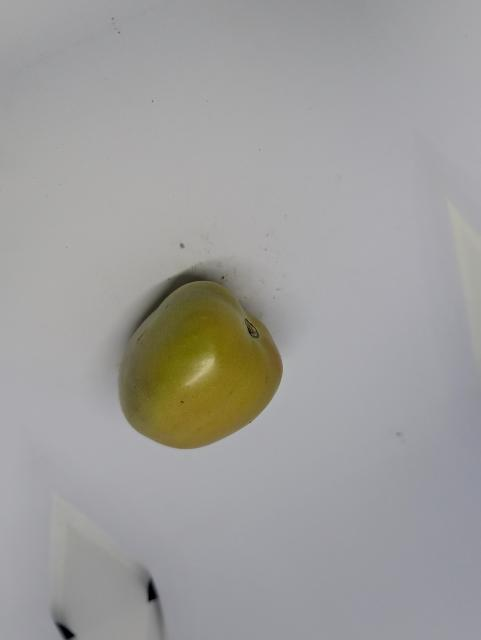breaker: (119, 281, 283, 448)
